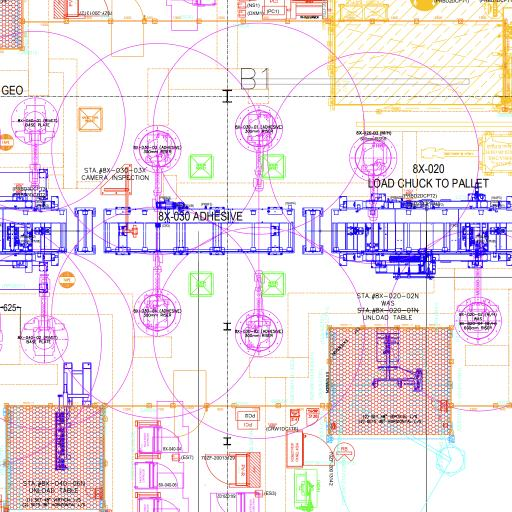robot: (453, 237, 503, 347), (9, 95, 59, 191), (19, 270, 69, 364), (133, 123, 183, 213), (347, 134, 398, 220), (233, 105, 283, 192), (234, 270, 284, 356), (132, 251, 182, 336)
